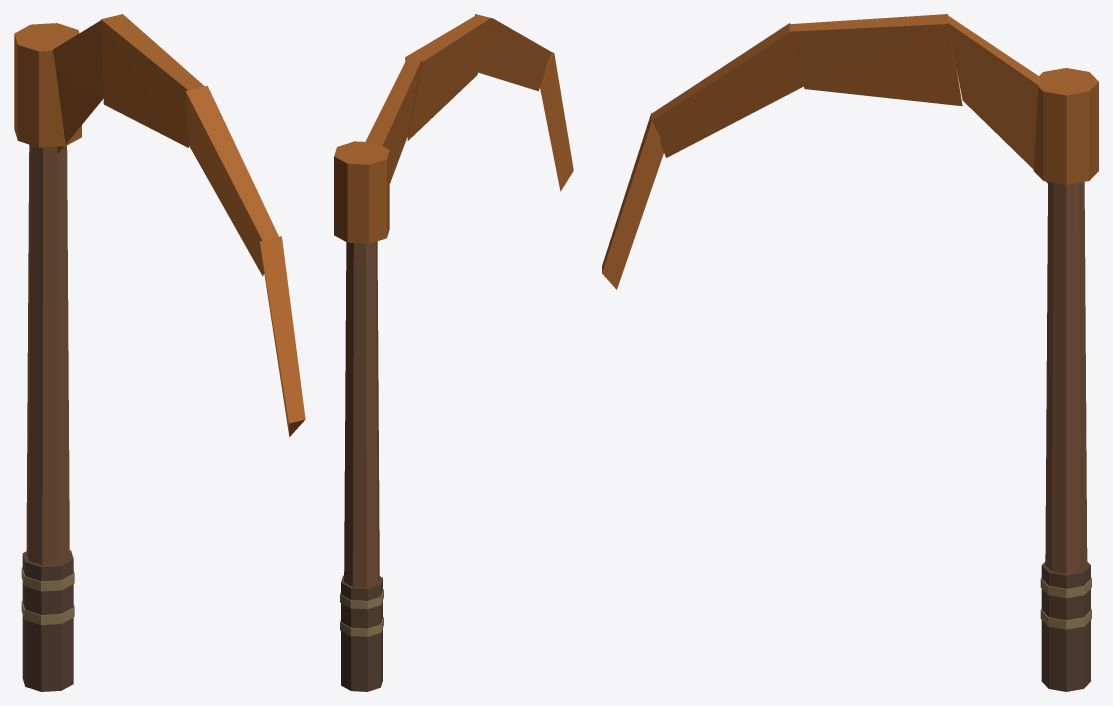
Rendered from tool_scythe_copper.glb.
3 renders of one model, left to right at view 1: azimuth 30°, elevation 25°; view 2: azimuth 150°, elevation 25°; view 3: azimuth 270°, elevation 25°, orthographic. The views are drawn at different scales.
Parts seen in each view (by area): view 1: tool_scythe_copper; view 2: tool_scythe_copper; view 3: tool_scythe_copper.
Part boxes in pixels (bbox=[...]): tool_scythe_copper: bbox=[14, 14, 305, 691]; tool_scythe_copper: bbox=[334, 14, 573, 691]; tool_scythe_copper: bbox=[602, 14, 1098, 691].
Size of the model in its own units: 0.066 by 0.74 by 0.503.
